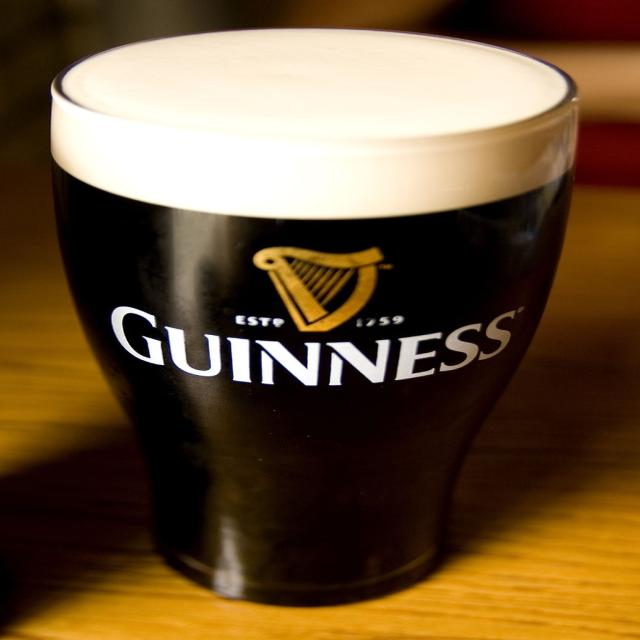guiness: (105, 245, 524, 393)
